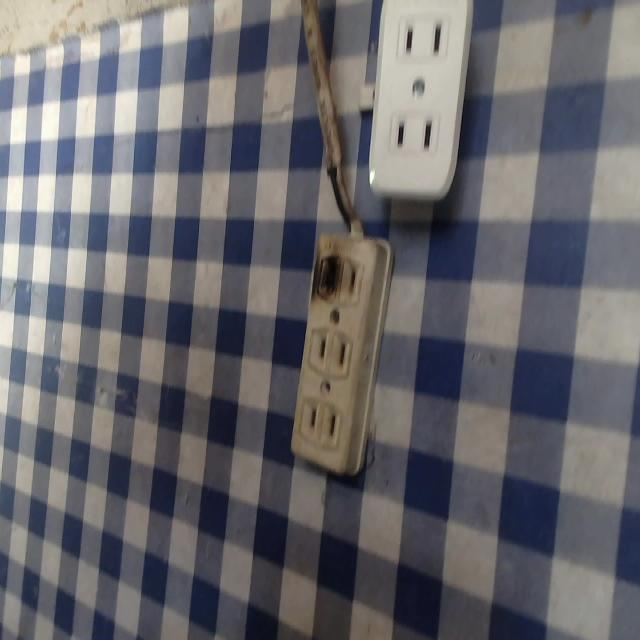-: (312, 248, 343, 303)
